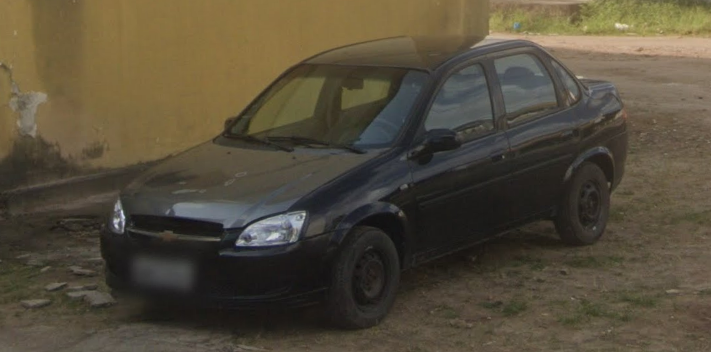car: (99, 32, 630, 327)
